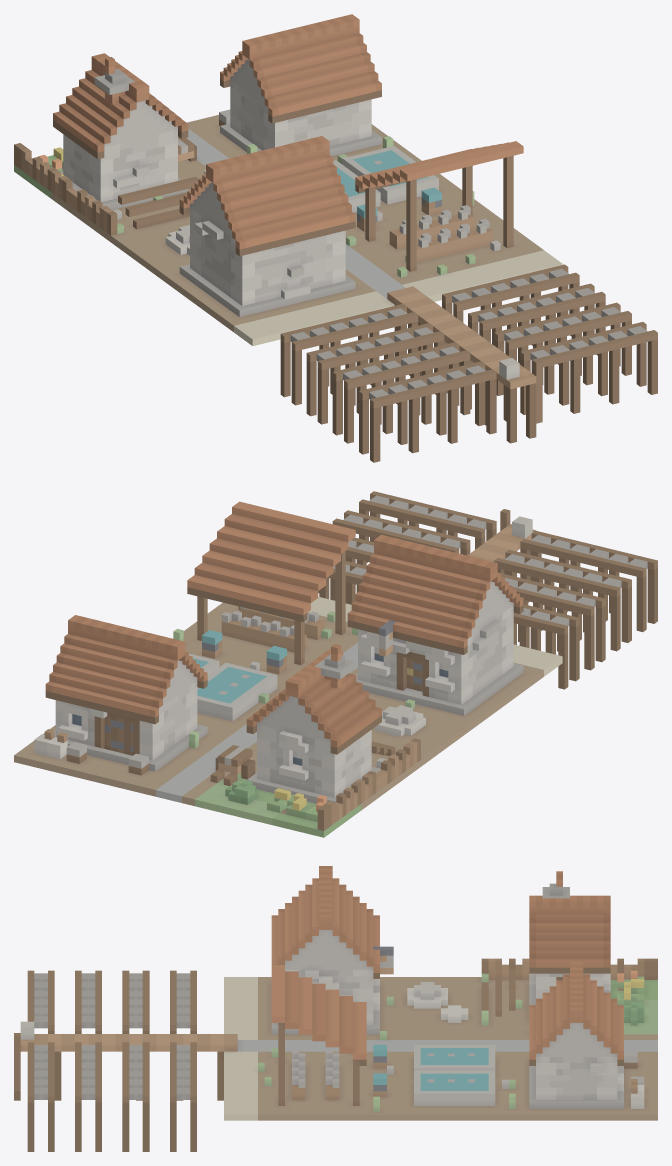
File: oyster_beds.glb
3 renders of one model, top to bottom at view 1: azimuth 30°, elevation 25°; view 2: azimuth 150°, elevation 25°; view 3: azimuth 270°, elevation 25°, orthographic. The views are drawn at different scales.
Parts seen in each view (by area): view 1: oyster_beds; view 2: oyster_beds; view 3: oyster_beds.
Boxes of the visible parts, x1,y1,x2,y2 form: oyster_beds: (14, 14, 657, 462); oyster_beds: (14, 491, 657, 837); oyster_beds: (14, 866, 657, 1151).
Size of the model in its own units: 6 by 3.5 by 11.88.
